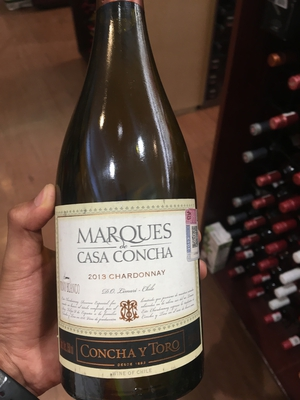marques de casa concha chardonnay: (49, 12, 216, 372)
